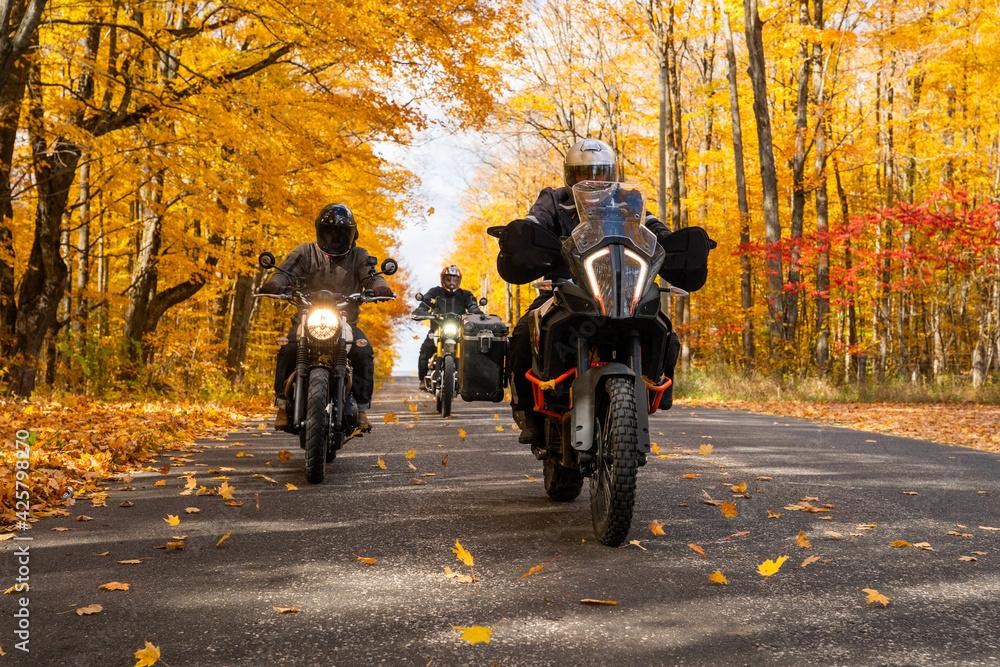helmet: (562, 138, 620, 208), (314, 202, 360, 257), (439, 264, 463, 294)
